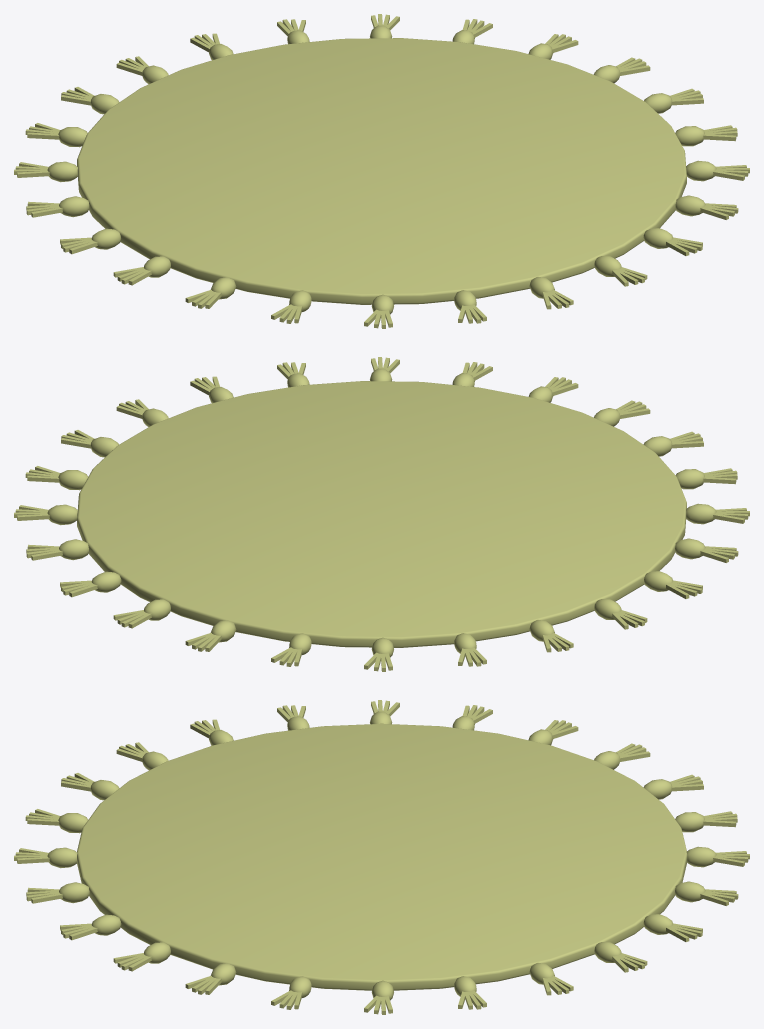
The model's file is Carpet.fbx.
3 renders of one model, top to bottom at view 1: azimuth 30°, elevation 25°; view 2: azimuth 150°, elevation 25°; view 3: azimuth 270°, elevation 25°, orthographic.
Parts seen in each view (by area): view 1: Carpet; view 2: Carpet; view 3: Carpet.
Part boxes in pixels (x1,y1,x2,y2): Carpet: [14, 14, 749, 328]; Carpet: [14, 357, 749, 671]; Carpet: [14, 700, 749, 1014].
Bounding box in the file's own units: 446 × 12.48 × 446.
